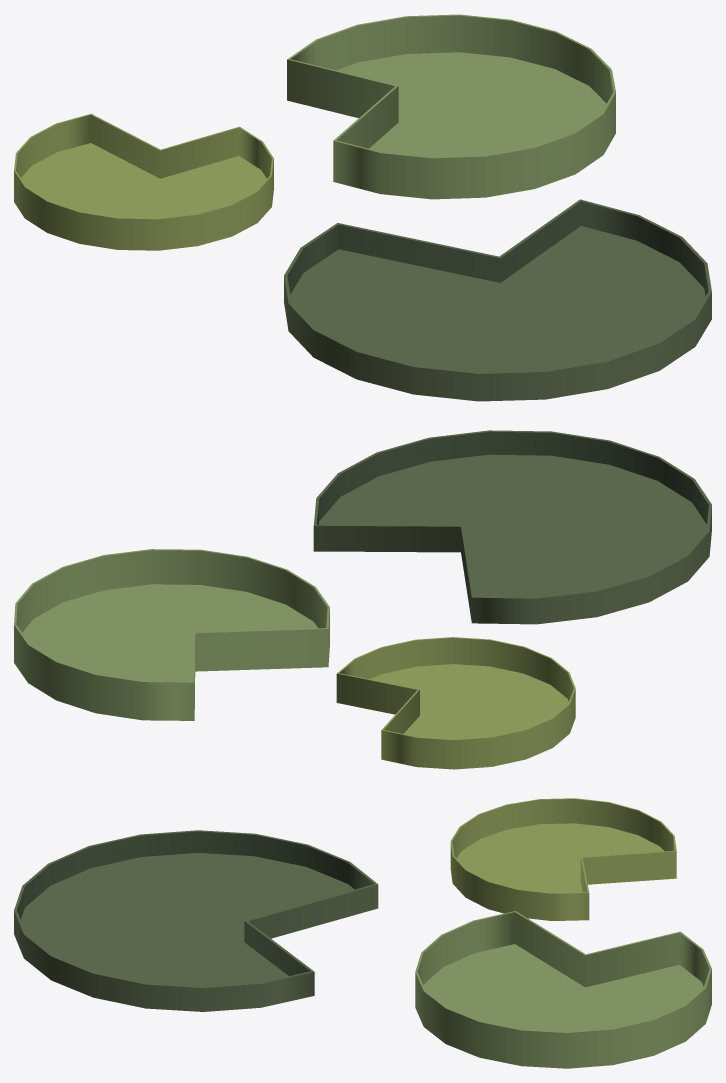
Rendered from Lillypad Trio.fbx.
The picture shows the model from 3 angles, top to bottom: view 1: azimuth 30°, elevation 25°; view 2: azimuth 150°, elevation 25°; view 3: azimuth 270°, elevation 25°; orthographic projection. The views are drawn at different scales.
Visible parts, largest first — view 1: Lillypad_Trio; view 2: Lillypad_Trio; view 3: Lillypad_Trio.
Part boxes in pixels (bbox=[...]): Lillypad_Trio: bbox=[14, 14, 711, 401]; Lillypad_Trio: bbox=[14, 430, 711, 769]; Lillypad_Trio: bbox=[14, 798, 711, 1068].
Size of the model in its own units: 55.32 by 3.86 by 68.41.
